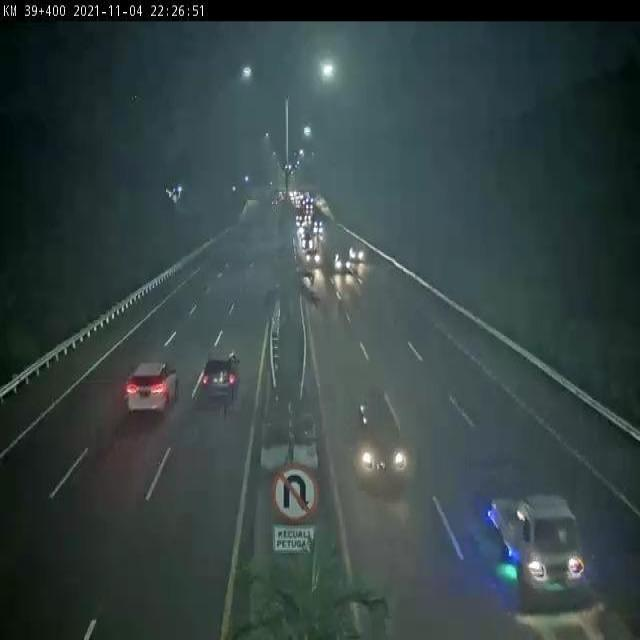Car: (122, 359, 178, 417), (202, 350, 240, 400), (348, 244, 364, 262), (305, 250, 319, 264)
Truck: (486, 492, 585, 601)
Van: (353, 393, 405, 493)
